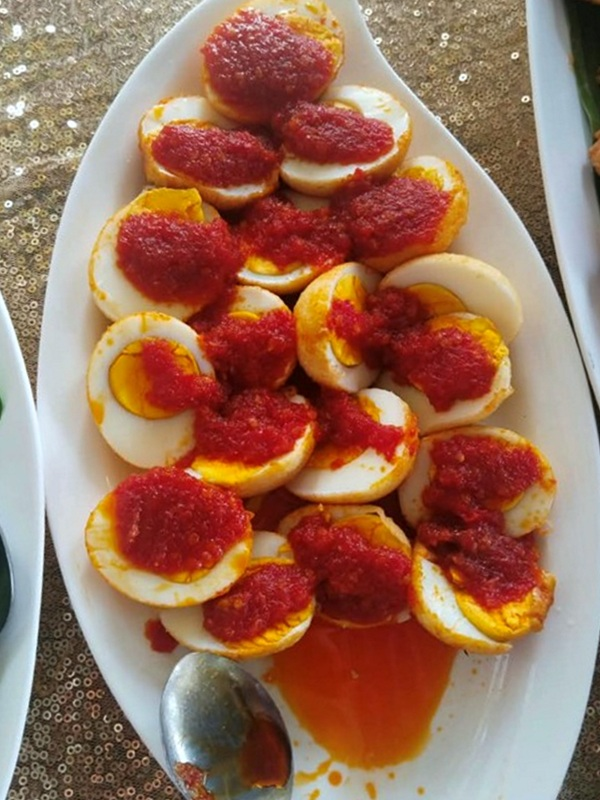Telur Balado: (115, 154, 496, 646)
